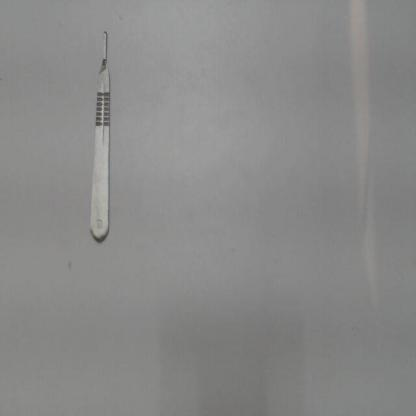No.3 BP Handle: (84, 16, 121, 245)
